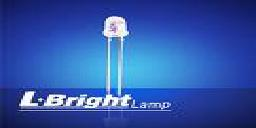LED: (99, 13, 131, 88)
